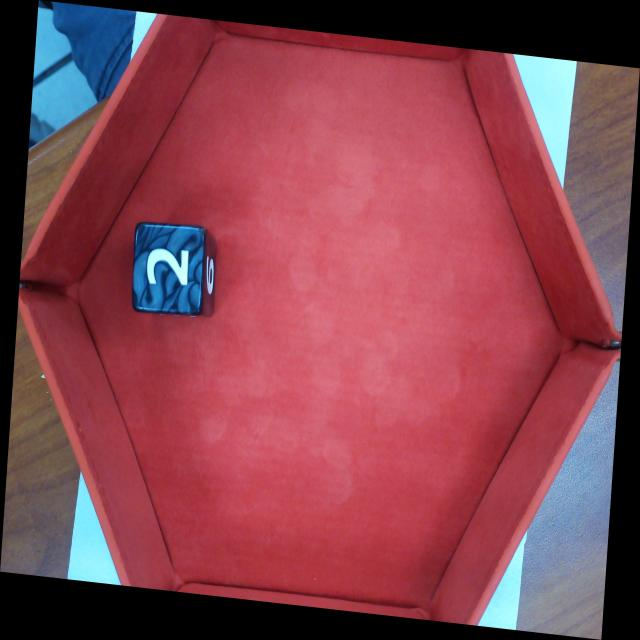dice: (132, 222, 204, 319)
